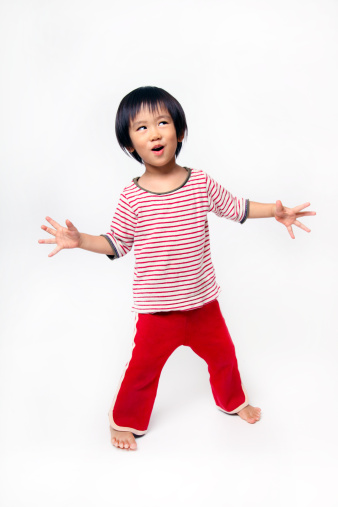em pe: (54, 75, 313, 440)
